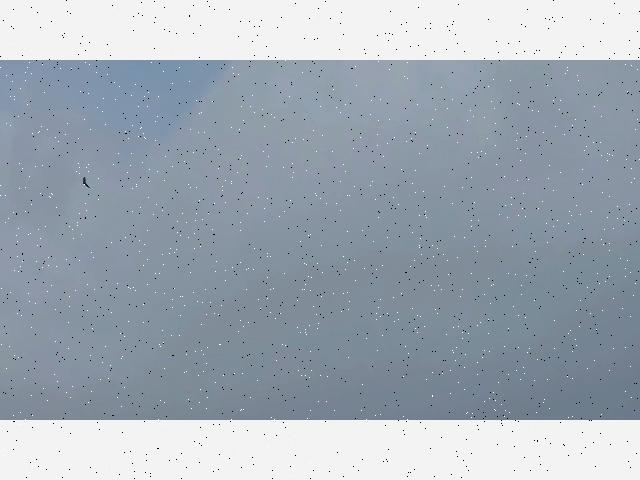Anti-Drone: (82, 176, 90, 188)
